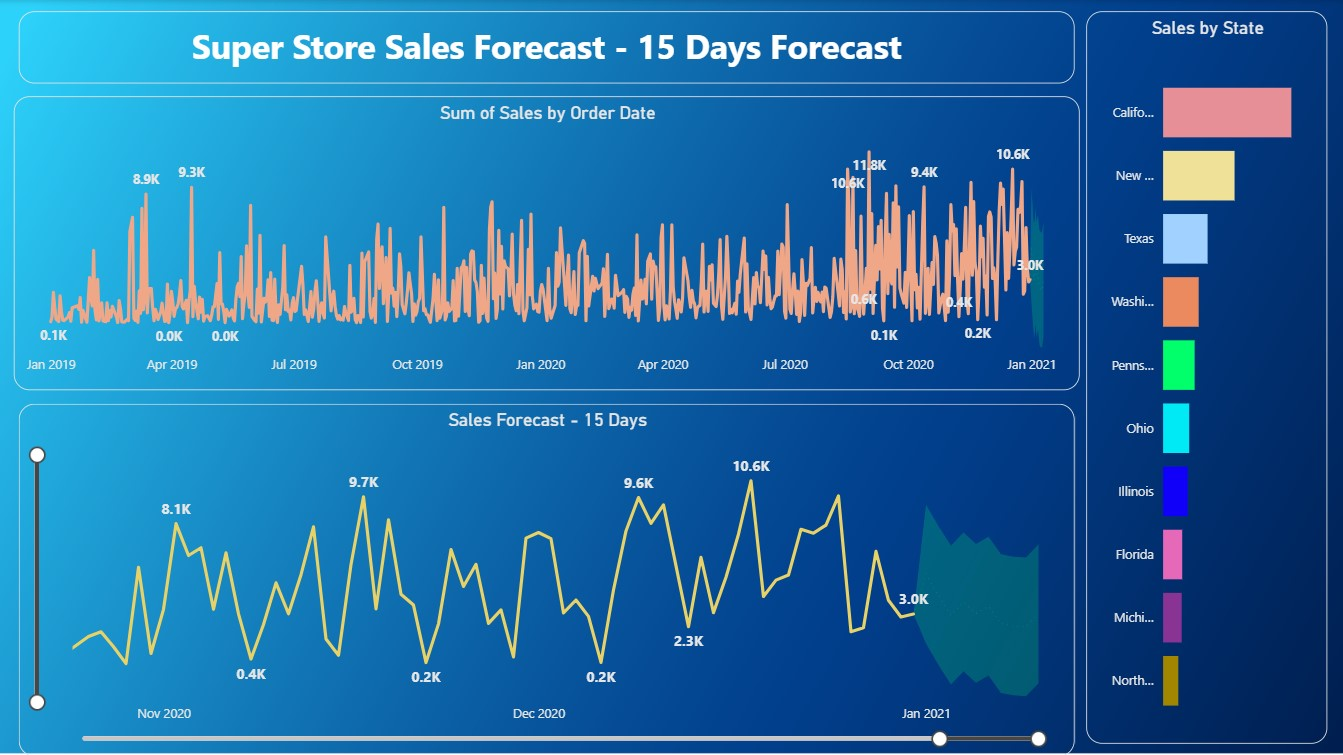

Layout of this report page (visuals, bound fields, positions):
{"tool":"powerbi","page":{"name":"Page 2","canvas":[1280,720],"ordinal":1},"visuals":[{"type":"lineChart","fields":{"Y":["Sum(SuperStore_Sales_Dataset.Sales)"],"Category":["SuperStore_Sales_Dataset.Order Date"]},"box":[13.1,91.7,1015.5,279.8],"z":0},{"type":"lineChart","title":"Sales Forecast - 15 Days","fields":{"Y":["Sum(SuperStore_Sales_Dataset.Sales)"],"Category":["SuperStore_Sales_Dataset.Order Date"]},"box":[17.9,384.5,1006,335.7],"z":1000},{"type":"textbox","box":[17.9,10.7,1006,69],"z":2000},{"type":"clusteredBarChart","title":"Sales by State","fields":{"Category":["SuperStore_Sales_Dataset.State"],"Y":["Sum(SuperStore_Sales_Dataset.Sales)"]},"box":[1034.5,10.7,229.8,697.6],"z":3000}]}

Visuals, with their boxes in screenshot pixels (x1, y1, x2, y2), scaled from the page's 1280x720 canvas onto the 1343x755 screenshot:
lineChart - Sum(SuperStore_Sales_Dataset.Sales) x SuperStore_Sales_Dataset.Order Date: [14, 96, 1079, 390]
"Sales Forecast - 15 Days" lineChart: [19, 403, 1074, 754]
textbox: [19, 11, 1074, 84]
"Sales by State" clusteredBarChart: [1085, 11, 1327, 743]
